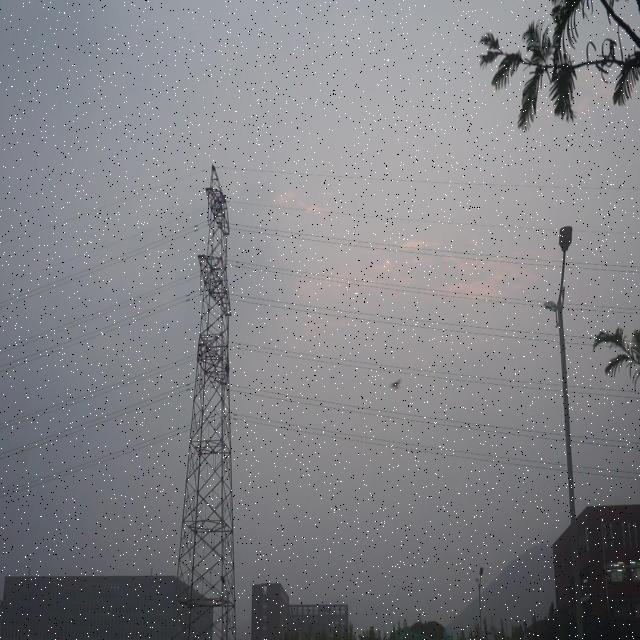UAV: (389, 378, 402, 390)
